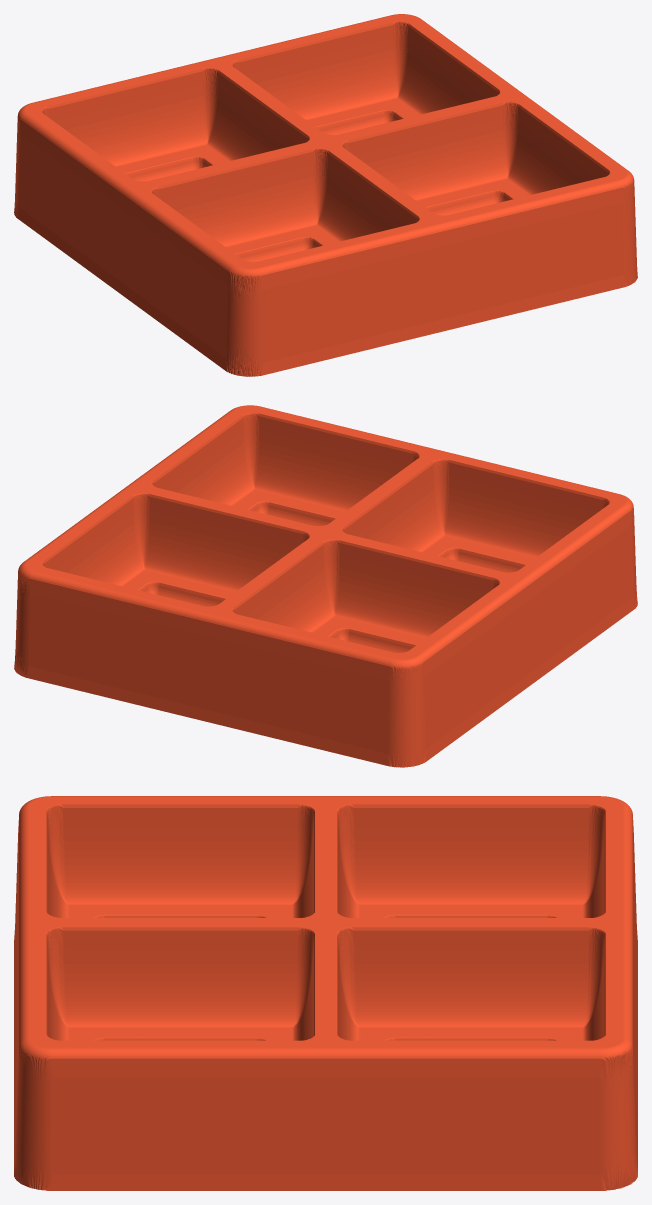
The model's file is mold.glb.
3 views of the same model, one above another, from view 1: azimuth 30°, elevation 25°; view 2: azimuth 150°, elevation 25°; view 3: azimuth 270°, elevation 25° (orthographic). The views are drawn at different scales.
Visible parts, largest first — view 1: geometry_0; view 2: geometry_0; view 3: geometry_0.
Boxes of the visible parts, <box> form: geometry_0: <box>14,14,637,376</box>; geometry_0: <box>14,405,637,767</box>; geometry_0: <box>14,796,637,1190</box>.
Bounding box in the file's own units: 0.1493 × 0.036 × 0.1493.
